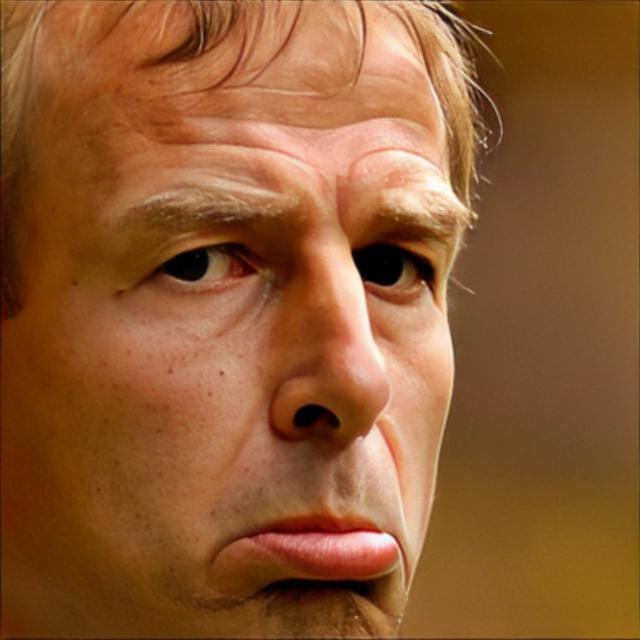sad: (0, 3, 473, 640)
